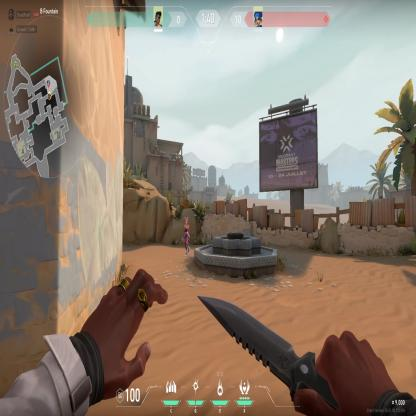enemy: (182, 215, 192, 257)
